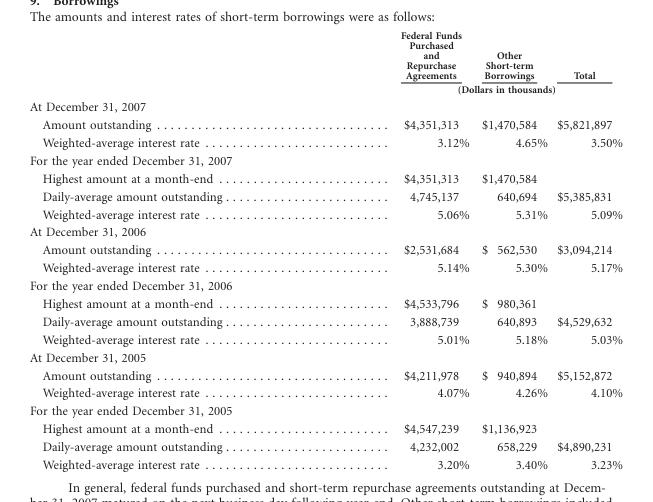table: (28, 29, 622, 471)
table column: (28, 29, 310, 471), (310, 29, 474, 471), (474, 29, 551, 471), (551, 29, 622, 471)
table column header: (28, 29, 622, 97)
table projected row header: (28, 97, 622, 115), (28, 151, 622, 169), (28, 222, 622, 240), (28, 276, 622, 294), (28, 401, 622, 419), (28, 348, 622, 365)
table row: (28, 29, 622, 82), (28, 97, 622, 115), (28, 115, 622, 133), (28, 133, 622, 151), (28, 151, 622, 169), (28, 169, 622, 187), (28, 187, 622, 205), (28, 222, 622, 240), (28, 240, 622, 258), (28, 258, 622, 276), (28, 276, 622, 294), (28, 294, 622, 312), (28, 312, 622, 330), (28, 330, 622, 348), (28, 365, 622, 383), (28, 383, 622, 401), (28, 401, 622, 419), (28, 419, 622, 437), (28, 437, 622, 455), (28, 205, 622, 222), (28, 348, 622, 365), (28, 455, 622, 471), (28, 82, 622, 97)
table spanning cell: (310, 82, 622, 97)
